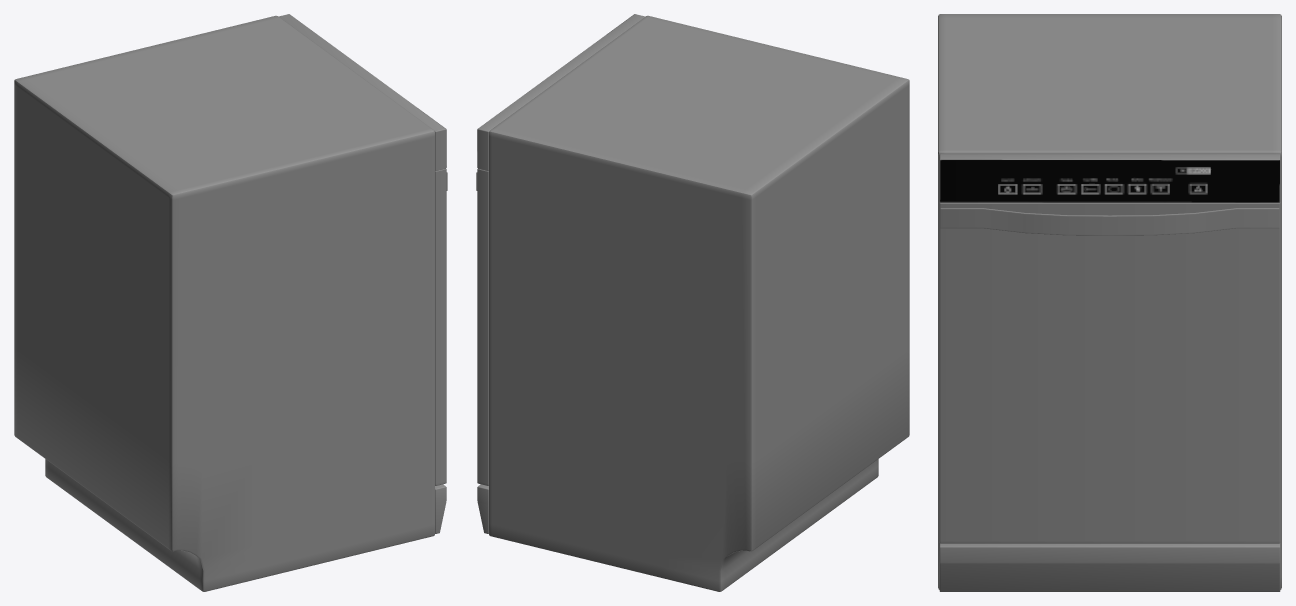
Rendered from dishwasher.glb.
The picture shows the model from 3 angles, left to right: view 1: azimuth 30°, elevation 25°; view 2: azimuth 150°, elevation 25°; view 3: azimuth 270°, elevation 25°; orthographic projection. The views are drawn at different scales.
Visible parts, largest first — view 1: SM_Dishwasher; view 2: SM_Dishwasher; view 3: SM_Dishwasher.
Part boxes in pixels (x1=…): SM_Dishwasher: x1=14, y1=14, x2=447, y2=591; SM_Dishwasher: x1=476, y1=14, x2=909, y2=591; SM_Dishwasher: x1=938, y1=14, x2=1281, y2=591.
Size of the model in its own units: 0.6339 by 0.845 by 0.6.
Materials: 1 (1 with a texture image).
